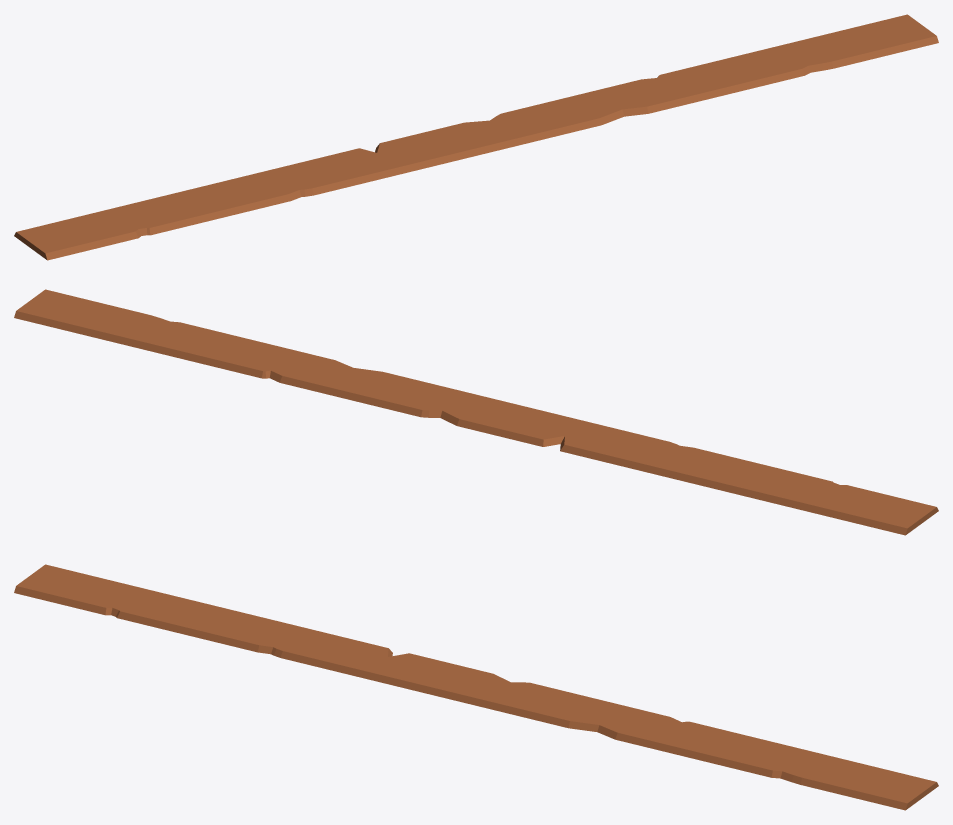
The model's file is terrace-boundary-decal-daaa9e.glb.
The picture shows the model from 3 angles, top to bottom: view 1: azimuth 30°, elevation 25°; view 2: azimuth 150°, elevation 25°; view 3: azimuth 330°, elevation 25°; orthographic projection.
Visible parts, largest first — view 1: boundary-marking; view 2: boundary-marking; view 3: boundary-marking.
Part boxes in pixels (left/top/right/bottom): boundary-marking: left=14, top=14, right=938, bottom=260; boundary-marking: left=14, top=289, right=938, bottom=535; boundary-marking: left=14, top=564, right=938, bottom=810.
Bounding box in the file's own units: 2 × 0.012 × 0.13.
